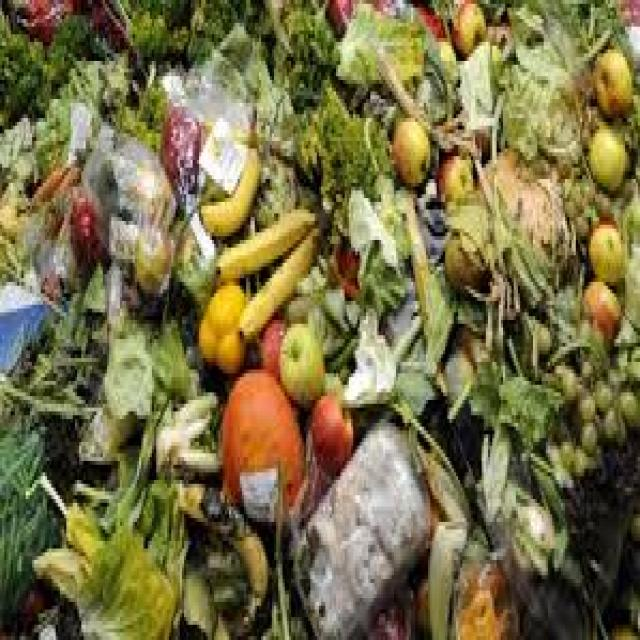food_waste: (20, 74, 640, 611)
